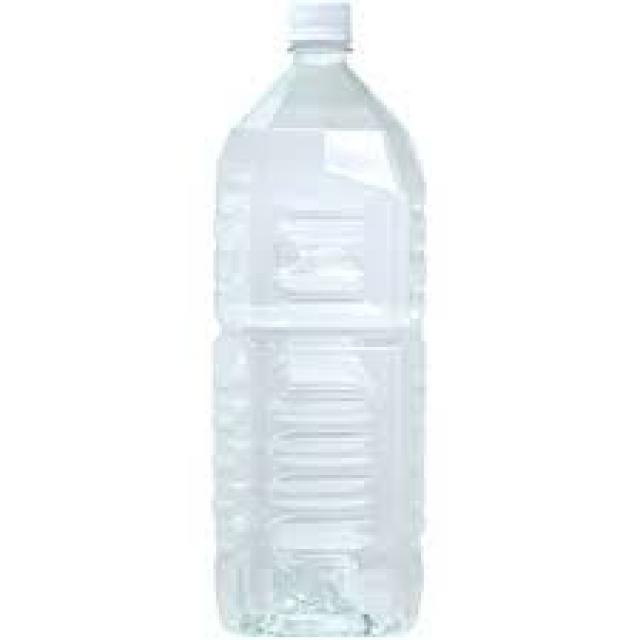Plastic: (211, 0, 428, 638)
